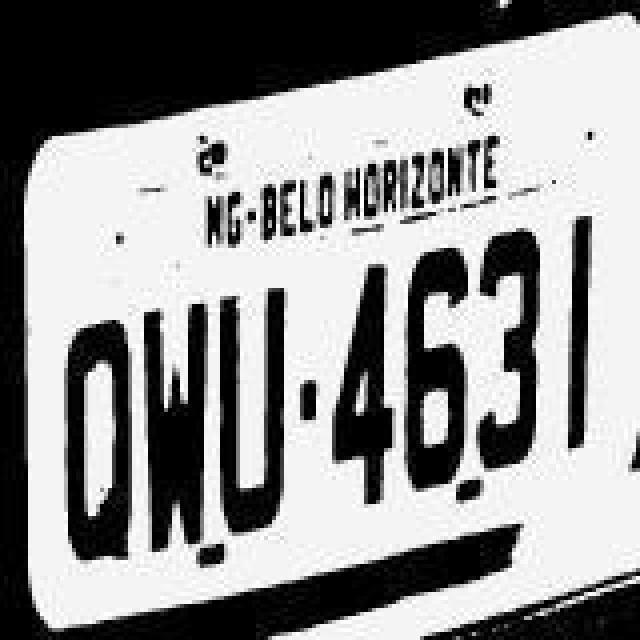1: (554, 210, 614, 462)
3: (472, 222, 552, 474)
4: (328, 252, 400, 516)
6: (400, 244, 480, 500)
Q: (56, 316, 136, 572)
U: (212, 276, 292, 540)
W: (138, 288, 214, 560)
